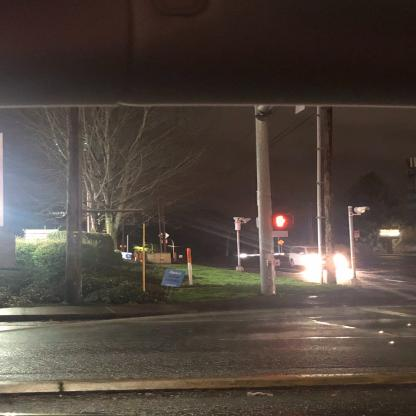Don-t Walk: (273, 215, 289, 227)
